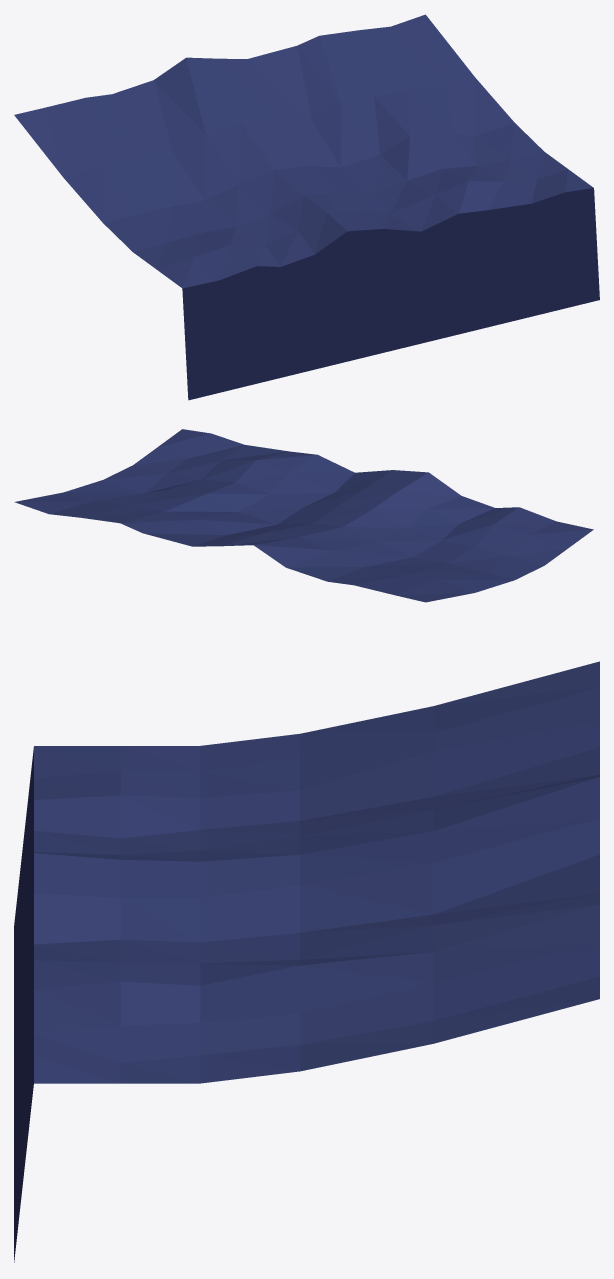
The model's file is seabed-3.glb.
3 views of the same model, one above another, from view 1: azimuth 30°, elevation 25°; view 2: azimuth 150°, elevation 25°; view 3: azimuth 270°, elevation 25° (orthographic). The views are drawn at different scales.
Visible parts, largest first — view 1: seabed-3; view 2: seabed-3; view 3: seabed-3.
Boxes of the visible parts, bbox=[...] form: seabed-3: bbox=[14, 14, 599, 400]; seabed-3: bbox=[14, 429, 593, 602]; seabed-3: bbox=[14, 661, 599, 1262].
Size of the model in its own units: 12 by 4.83 by 8.8.
